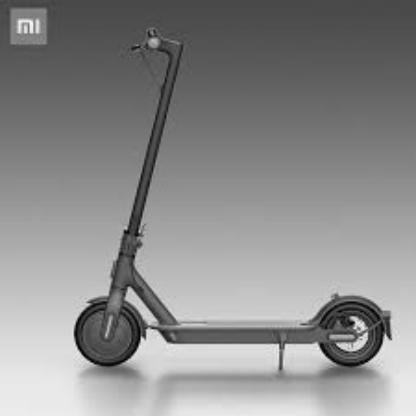bike: (72, 26, 400, 374)
